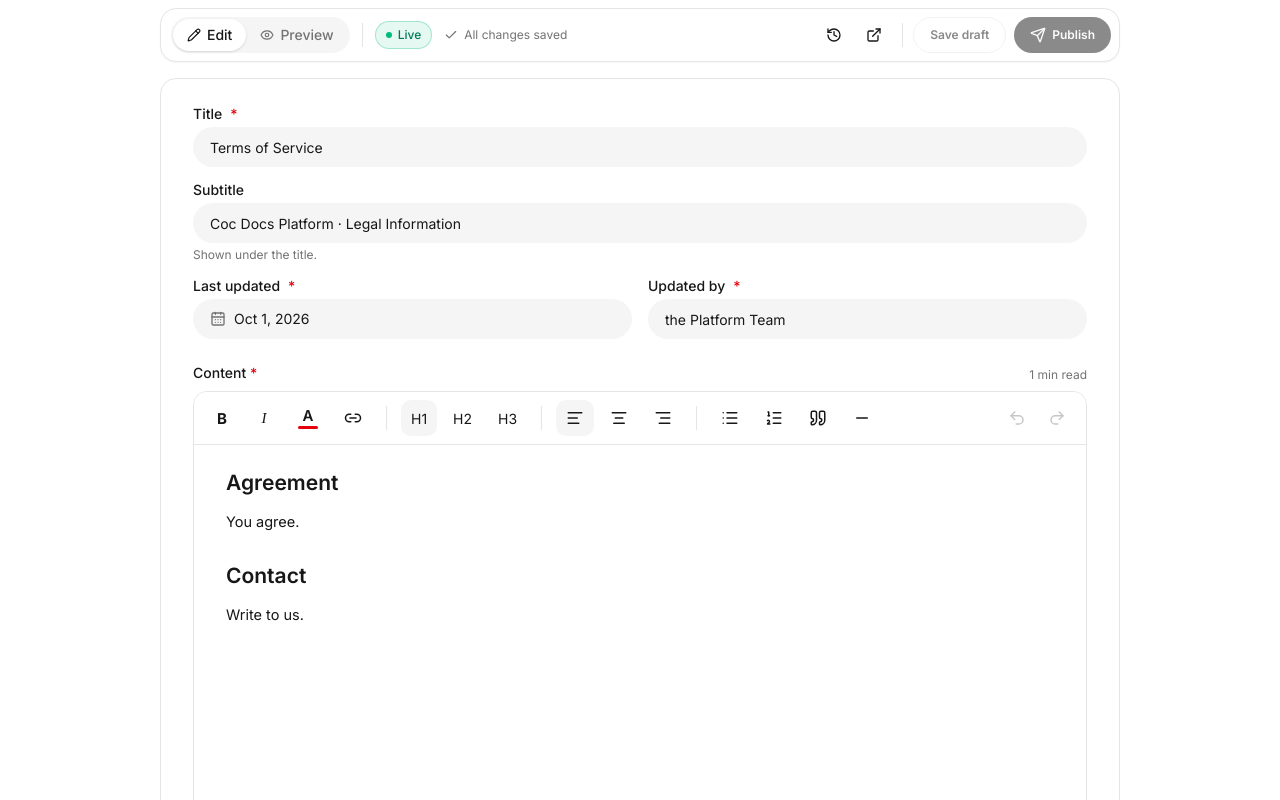
LegalPageEditor › publishing with unsaved edits saves them first, then publishes — never an older draft
Type "!" into the field showing "Terms of Service" at (640, 147), box [193,127,1087,167]
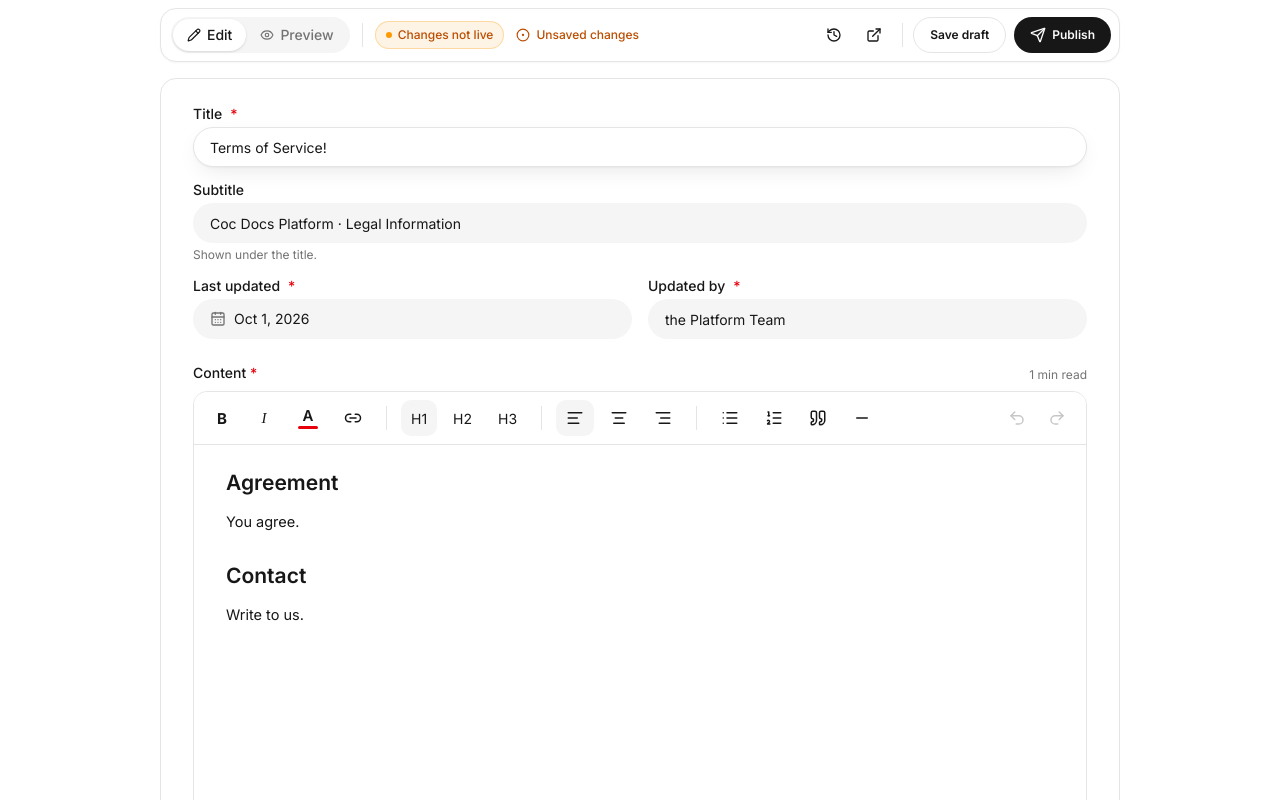
Click the button "Publish" at (1063, 35), box [1014,17,1111,53]
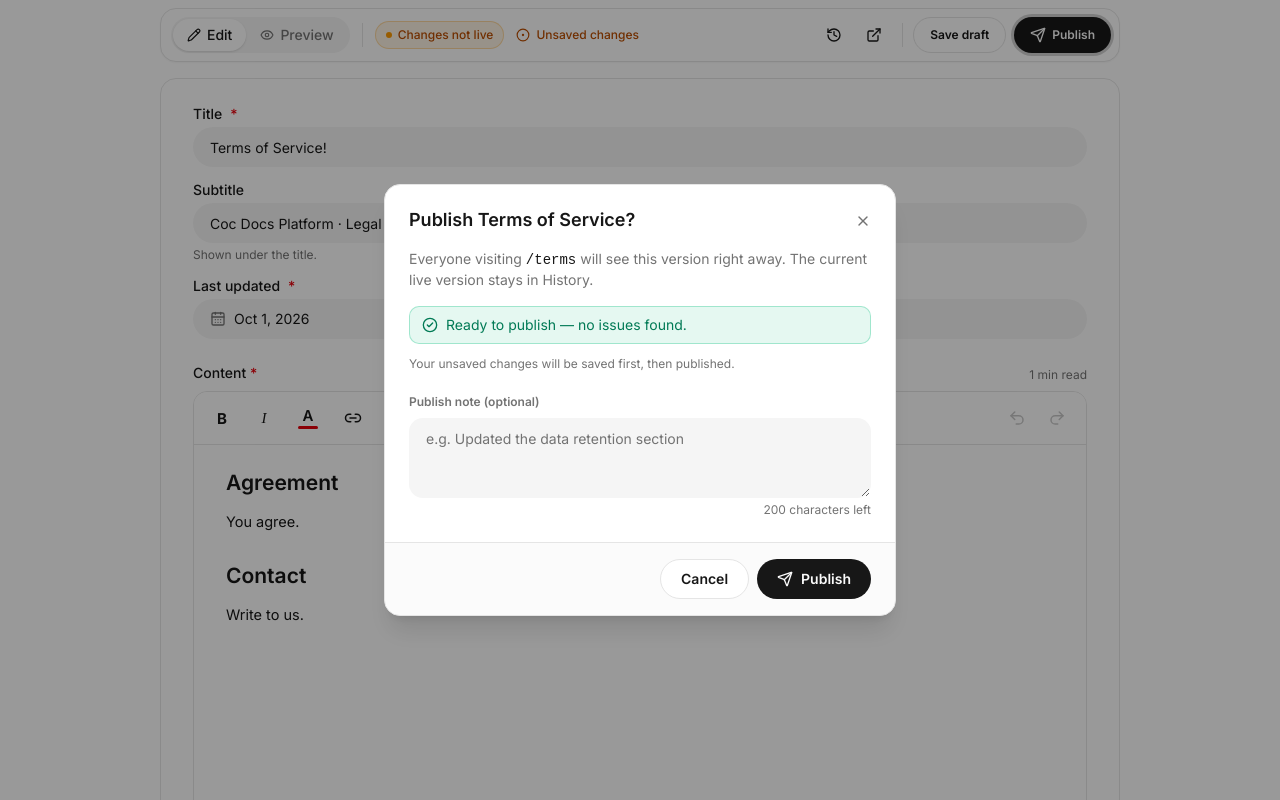
Expected: the dialog "Publish Terms of Service" shows "Your unsaved changes will be saved first", [409,356,735,371]
Type "Typo fix" into the text box with placeholder "e.g. Updated the data retention section" at (640, 458), box [409,418,871,498]
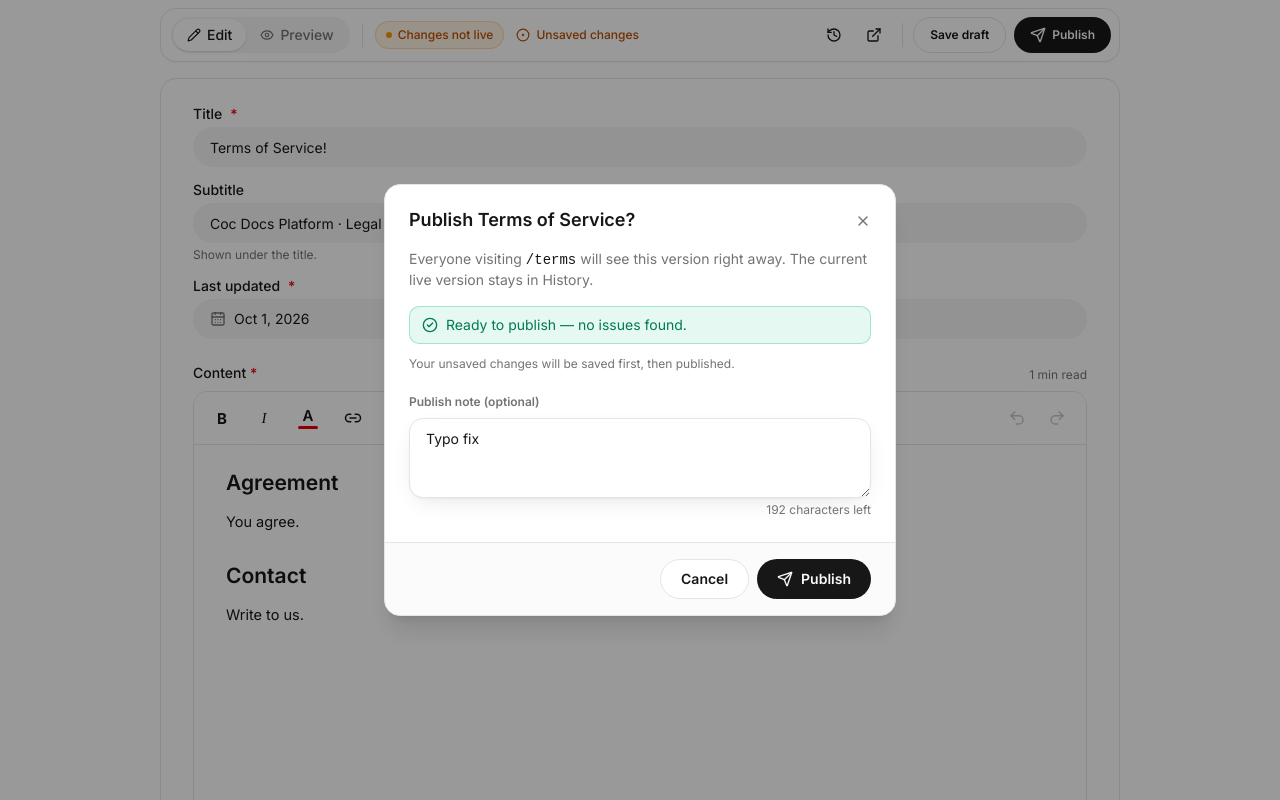
Click the button "Publish" at (814, 579), box [757,559,871,599]
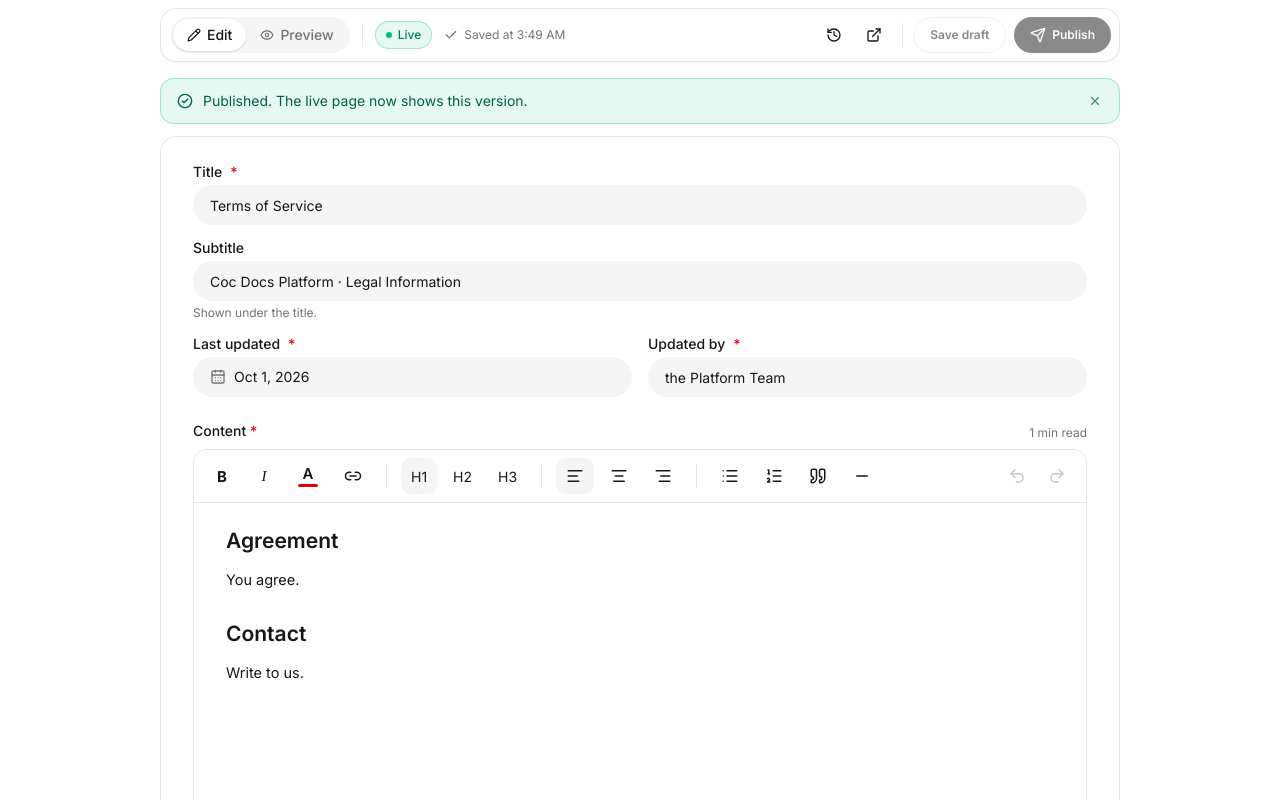
Expected: the text "Published. The live page now shows this version." is shown, [203,92,528,109]
